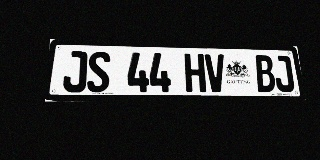4: (127, 52, 149, 92), (149, 53, 171, 92)
B: (254, 55, 276, 92)
H: (184, 53, 206, 92)
J: (62, 51, 87, 92), (272, 55, 295, 92)
S: (86, 51, 110, 92)
V: (204, 54, 227, 92)
